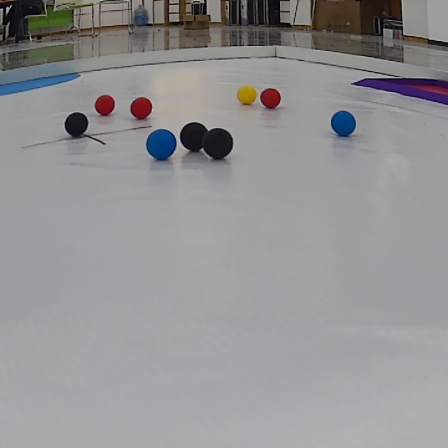black: (203, 128, 234, 161), (180, 119, 209, 151), (62, 113, 91, 138)
blue: (141, 127, 180, 164), (330, 109, 358, 139)
blue_base: (1, 73, 89, 94)
red: (128, 96, 160, 118), (95, 92, 116, 114), (260, 88, 282, 109)
red_aim: (359, 74, 448, 108)
yellow: (237, 84, 258, 105)
